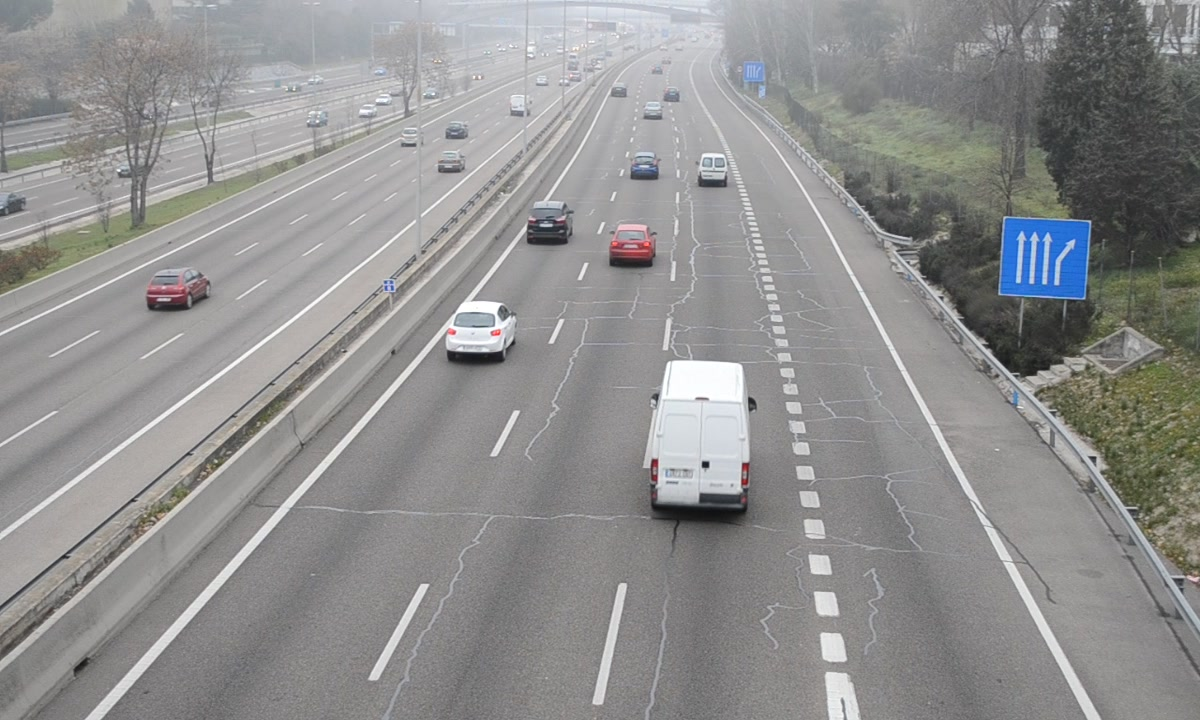car: (444, 301, 516, 356), (527, 201, 572, 243), (609, 224, 654, 265), (629, 152, 660, 181)
van: (650, 360, 751, 512), (697, 152, 730, 189)
